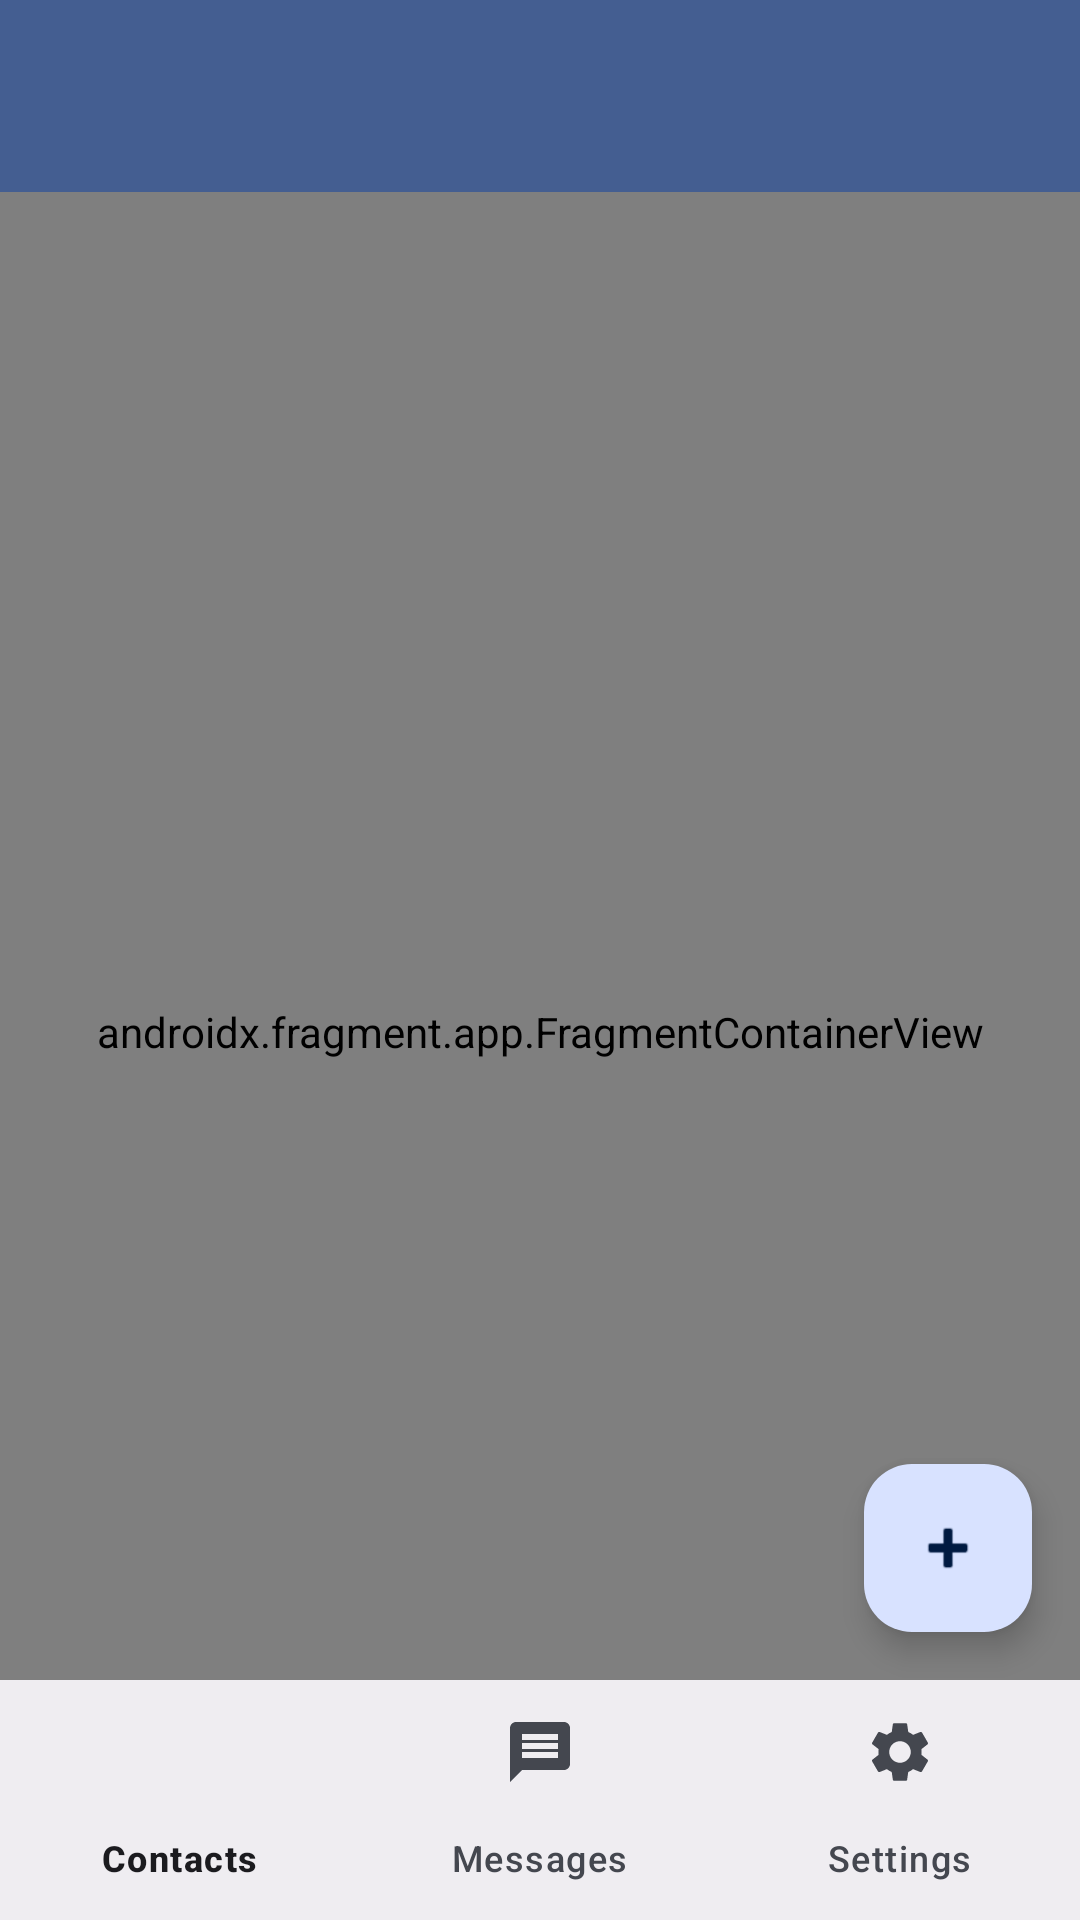

Locate icon controls on the screen. Image size 1080px x 1920px, boxes as (x1, y1, x2, y2).
Add Contact: (864, 1464, 1032, 1632)
